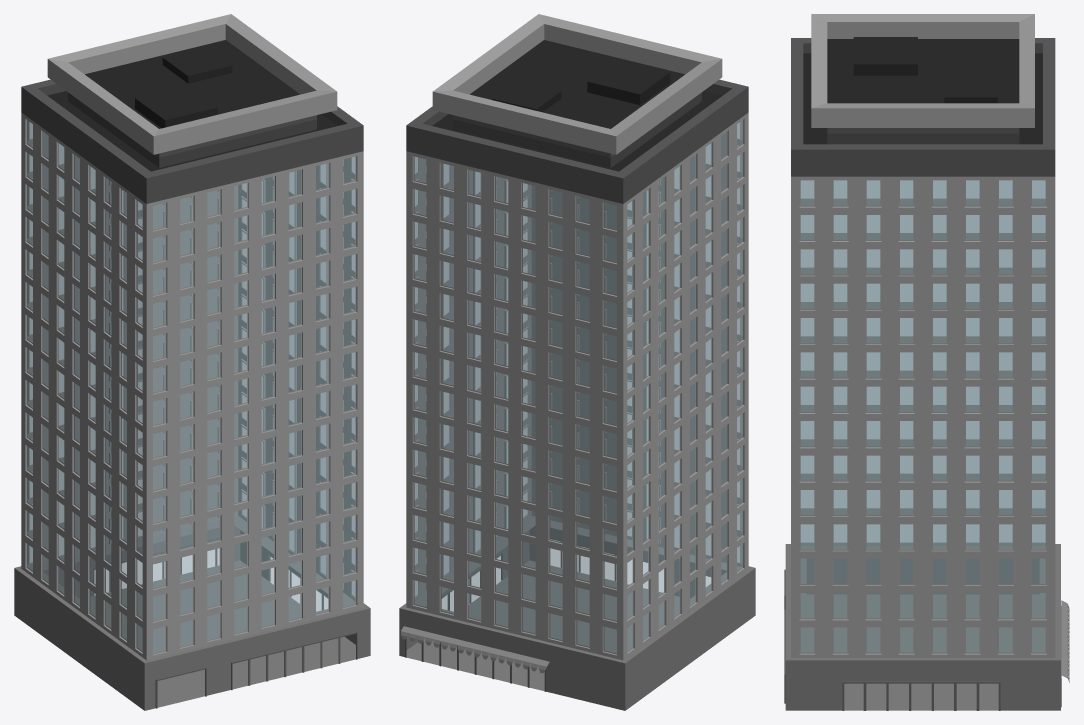
The model's file is office_complex_02.glb.
The picture shows the model from 3 angles, left to right: view 1: azimuth 30°, elevation 25°; view 2: azimuth 150°, elevation 25°; view 3: azimuth 270°, elevation 25°; orthographic projection. The views are drawn at different scales.
Visible parts, largest first — view 1: Cube_Colore_0; view 2: Cube_Colore_0; view 3: Cube_Colore_0.
Part boxes in pixels (x1,y1,x2,y2): Cube_Colore_0: (14,14,370,710); Cube_Colore_0: (399,14,755,710); Cube_Colore_0: (784,14,1069,710).
Size of the model in its own units: 9.49 by 22.4 by 9.8.
Materials: 2 (1 with a texture image).
